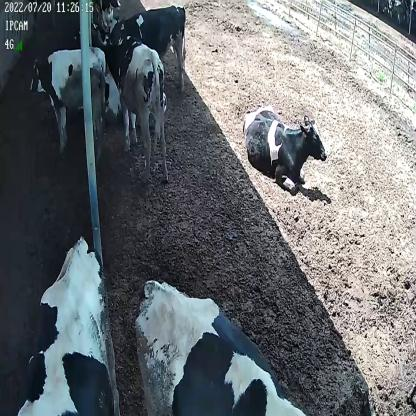cow: (134, 274, 308, 416), (107, 34, 169, 179), (29, 47, 107, 157), (240, 104, 328, 195), (105, 6, 187, 96)
